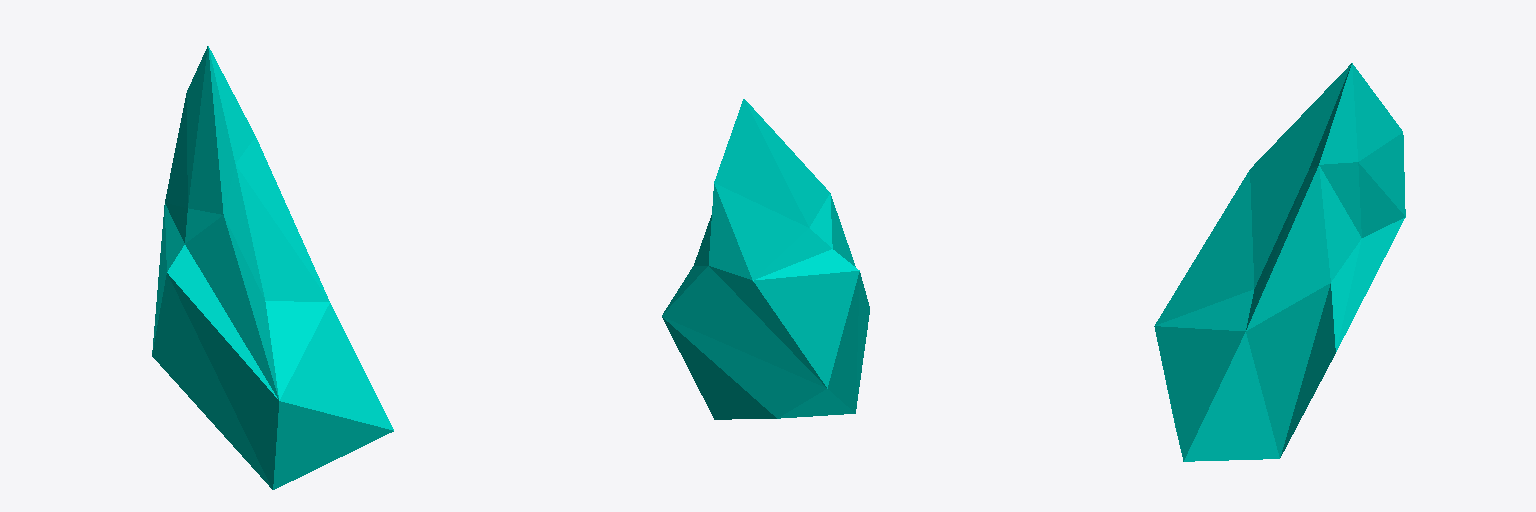
The model's file is Cristal3.obj.
The picture shows the model from 3 angles: view 1: azimuth 30°, elevation 25°; view 2: azimuth 150°, elevation 25°; view 3: azimuth 270°, elevation 25°; orthographic projection.
Visible parts, largest first — view 1: Group63897; view 2: Group63897; view 3: Group63897.
Part boxes in pixels (left/top/right/bottom): Group63897: left=152, top=46, right=393, bottom=489; Group63897: left=662, top=99, right=869, bottom=419; Group63897: left=1154, top=63, right=1405, bottom=461.
Bounding box in the file's own units: 1.81 × 3.59 × 2.18.